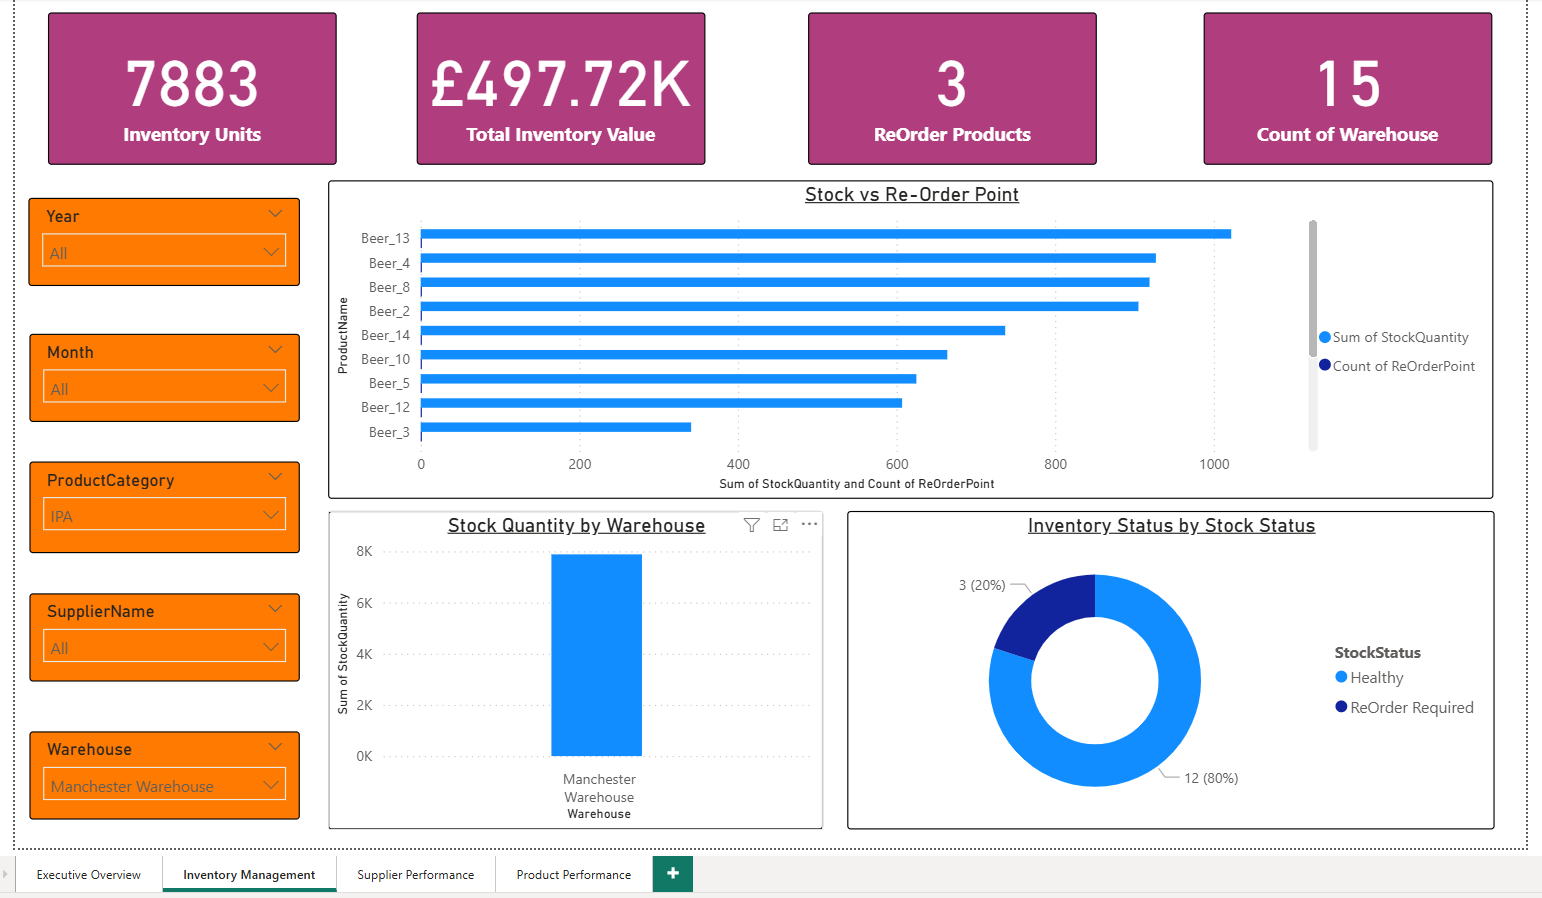

The page's visual inventory and layout, read from the dashboard file:
{"tool":"powerbi","page":{"name":"Inventory Management","canvas":[1280,720],"ordinal":1},"visuals":[{"type":"card","fields":{"Values":["Measure.Inventory Units"]},"box":[27.8,12.5,244.5,129],"z":0},{"type":"card","fields":{"Values":["Measure.Total Inventory Value"]},"box":[340.3,12.5,244.5,129],"z":1000},{"type":"card","fields":{"Values":["Measure.ReOrder Products"]},"box":[671.7,12.5,244.5,129],"z":2000},{"type":"card","fields":{"Values":["CountNonNull(FactInventory.Warehouse)"]},"box":[1007.6,12.5,244.5,129],"z":3000},{"type":"clusteredBarChart","title":"Stock vs Re-Order Point","fields":{"Category":["Dimproduct.ProductName"],"Y":["Sum(FactInventory.StockQuantity)","Count(FactInventory.ReOrderPoint)"]},"box":[265.1,154,987.9,269.6],"z":4000},{"type":"columnChart","title":"Stock Quantity by Warehouse","fields":{"Category":["FactInventory.Warehouse"],"Y":["Sum(FactInventory.StockQuantity)"]},"box":[265.1,434.4,419.1,269.6],"z":5000},{"type":"donutChart","title":"Inventory Status by Stock Status","fields":{"Category":["FactInventory.StockStatus"],"Y":["CountNonNull(FactInventory.InventoryID)"]},"box":[704.8,434.4,548.1,269.6],"z":6000},{"type":"slicer","fields":{"Values":["FactInventory.Warehouse"]},"box":[12.5,621.6,229.3,75.2],"z":7000},{"type":"slicer","fields":{"Values":["DimDate.Year"]},"box":[11.6,169.3,230.2,75.2],"z":8000},{"type":"slicer","fields":{"Values":["DimDate.Month"]},"box":[12.5,284.8,229.3,75.2],"z":9000},{"type":"slicer","fields":{"Values":["Dimproduct.ProductCategory"]},"box":[12.5,393.2,229.3,77.9],"z":10000},{"type":"slicer","fields":{"Values":["DimSupplier.SupplierName"]},"box":[12.5,504.2,229.3,75.2],"z":11000}]}

Visuals, with their boxes in screenshot pixels (x1, y1, x2, y2):
card - Measure.Inventory Units: [37, 7, 328, 160]
card - Measure.Total Inventory Value: [408, 7, 699, 160]
card - Measure.ReOrder Products: [802, 7, 1092, 160]
card - CountNonNull(FactInventory.Warehouse): [1201, 7, 1492, 160]
"Stock vs Re-Order Point" clusteredBarChart: [319, 175, 1493, 495]
"Stock Quantity by Warehouse" columnChart: [319, 508, 817, 828]
"Inventory Status by Stock Status" donutChart: [841, 508, 1493, 828]
slicer - FactInventory.Warehouse: [19, 730, 291, 820]
slicer - DimDate.Year: [18, 193, 291, 282]
slicer - DimDate.Month: [19, 330, 291, 420]
slicer - Dimproduct.ProductCategory: [19, 459, 291, 552]
slicer - DimSupplier.SupplierName: [19, 591, 291, 680]
